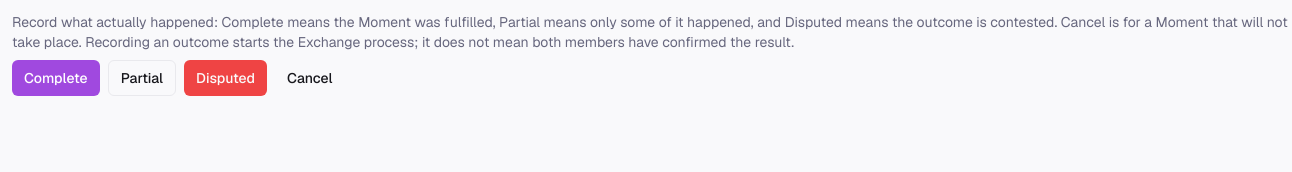
MomentActions › preserves structured server errors without false success
This screenshot has width=1292, height=172.
Click the button "Cancel": (310, 78) [275,60,345,96]
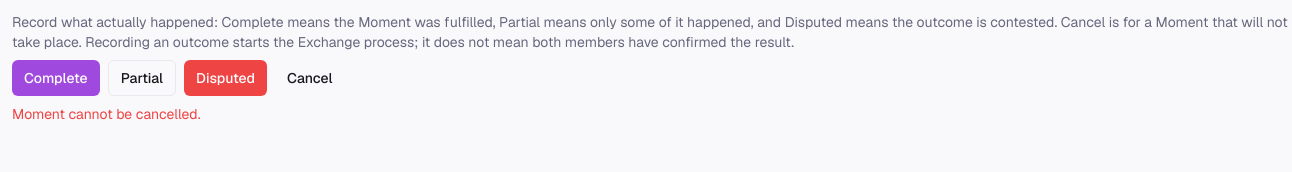
Result: the message reads "Moment cannot be cancelled." at [12,105,200,123]
